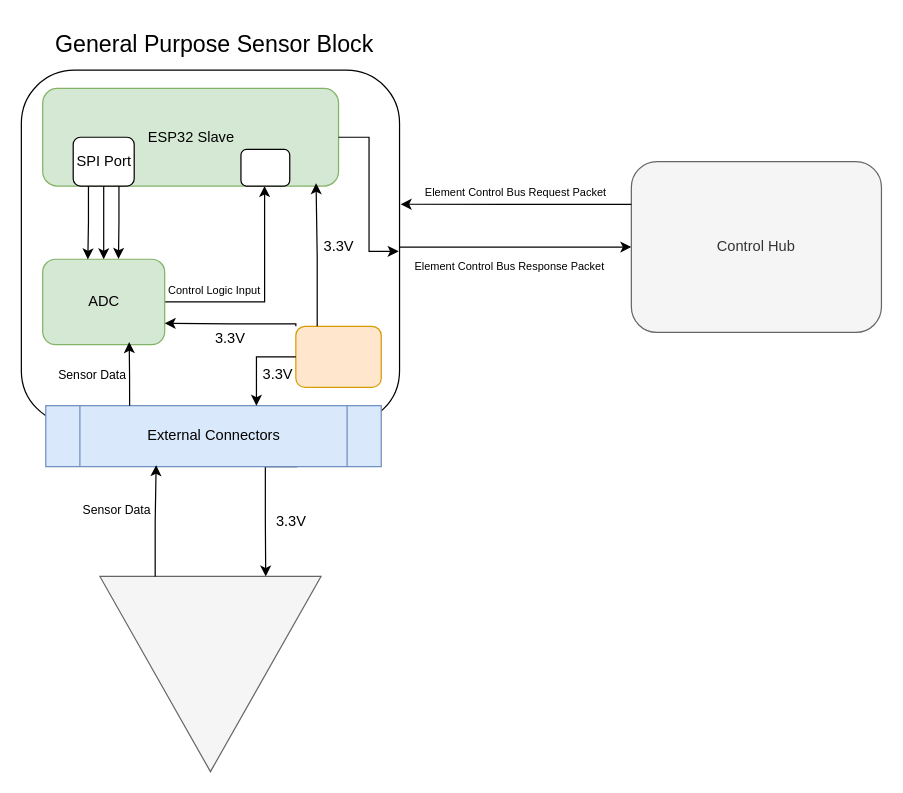
This 903x793 diagram has some shape labels left out. The box of each missing label's shape, as (x1, y1, x2, y2) in pixels:
3.3V Battery: (295, 325, 381, 387)
Generic Sensor: (99, 575, 321, 772)
GPIO: (240, 148, 290, 186)
